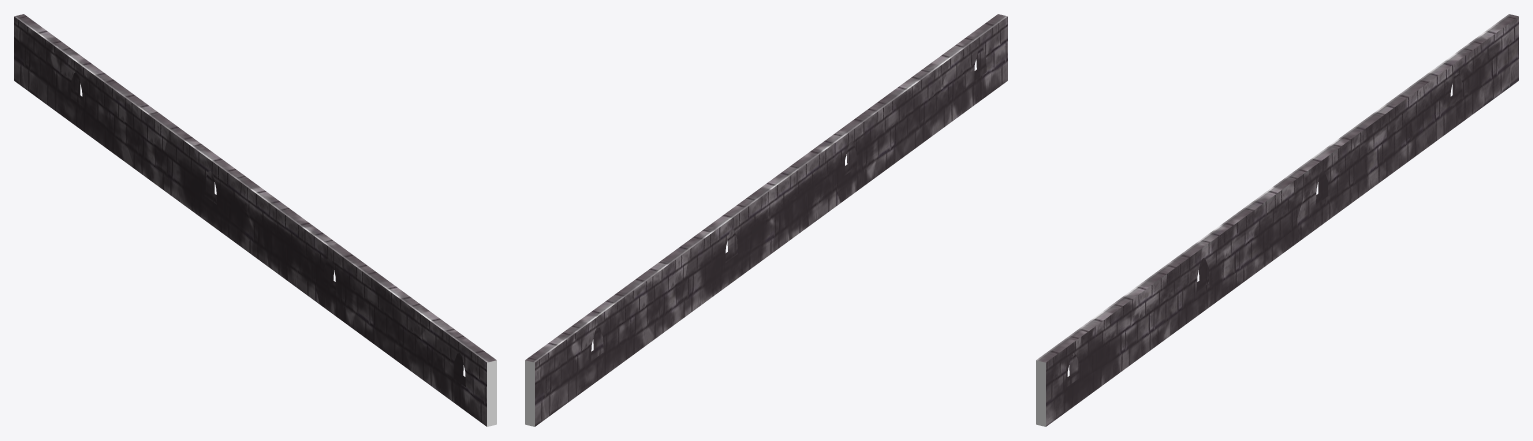
The model's file is Castle_Wall3.fbx.
The picture shows the model from 3 angles, left to right: view 1: azimuth 30°, elevation 25°; view 2: azimuth 150°, elevation 25°; view 3: azimuth 330°, elevation 25°; orthographic projection.
Visible parts, largest first — view 1: L_Wall2; view 2: L_Wall2; view 3: L_Wall2.
Boxes of the visible parts, x1,y1,x2,y2 form: L_Wall2: [14, 14, 496, 426]; L_Wall2: [525, 14, 1007, 426]; L_Wall2: [1036, 14, 1518, 426].
Bounding box in the file's own units: 0.0127 × 0.0789 × 1.05.
